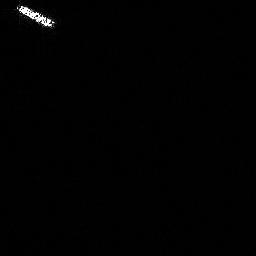ship: (13, 1, 59, 33)
